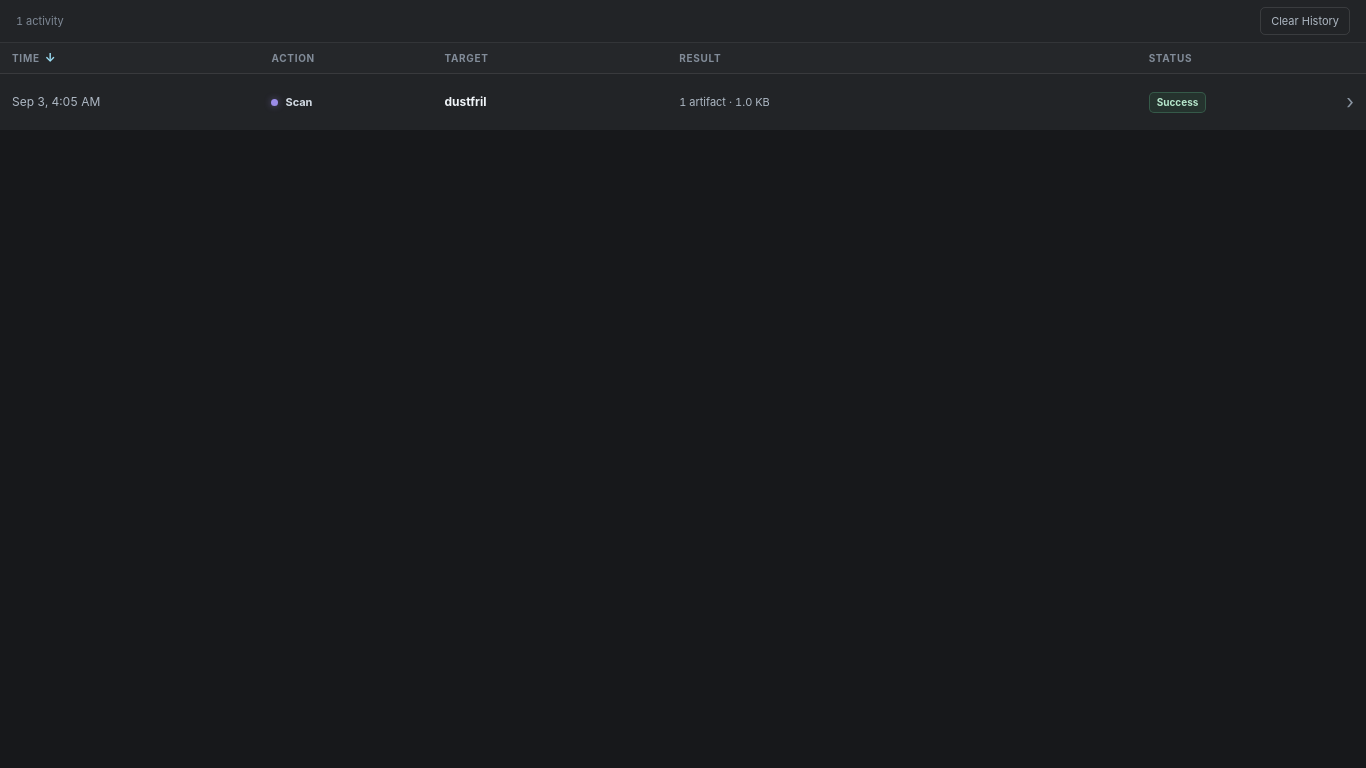
it: HistoryView › updates to the empty state immediately after a successful clear
Click the button "Clear History": [1305, 21] box [1260,7,1350,35]
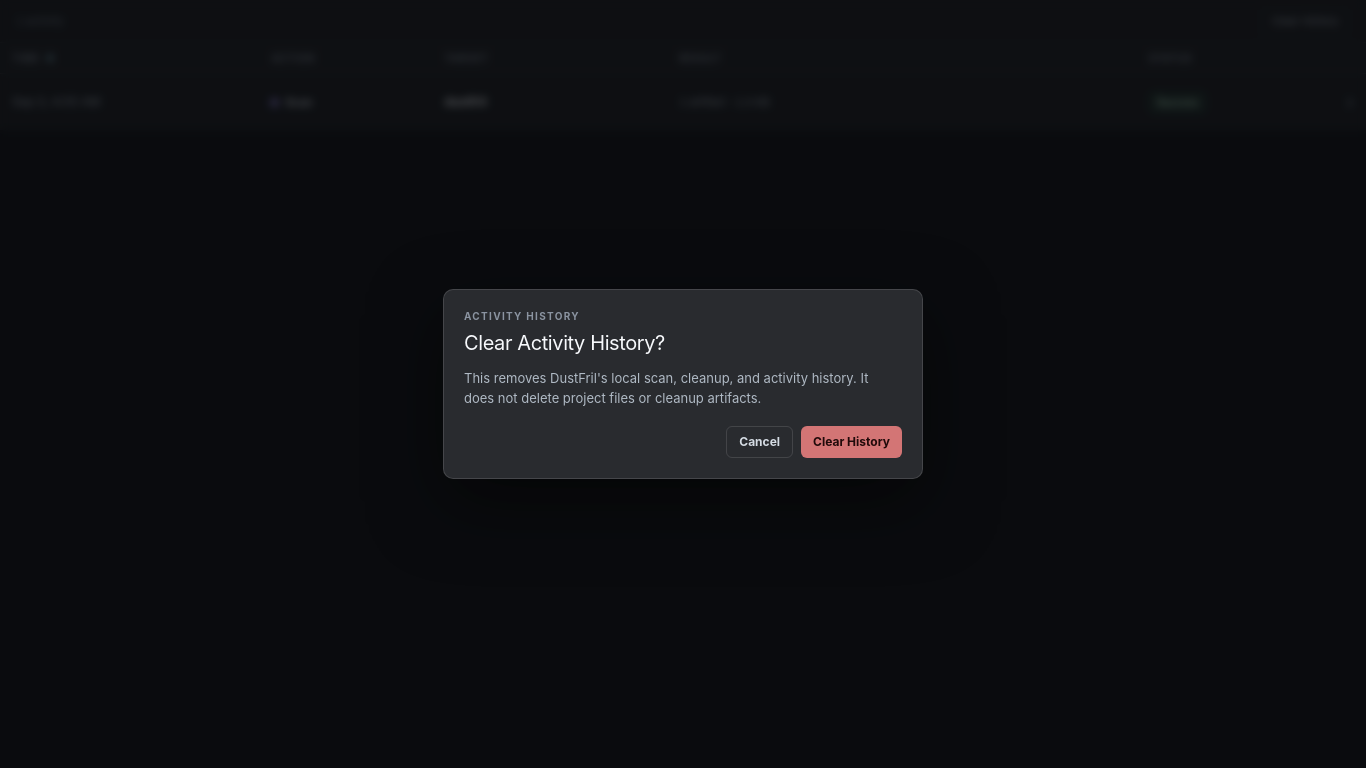
Click the button "Clear History": [852, 442] box [801,426,902,458]
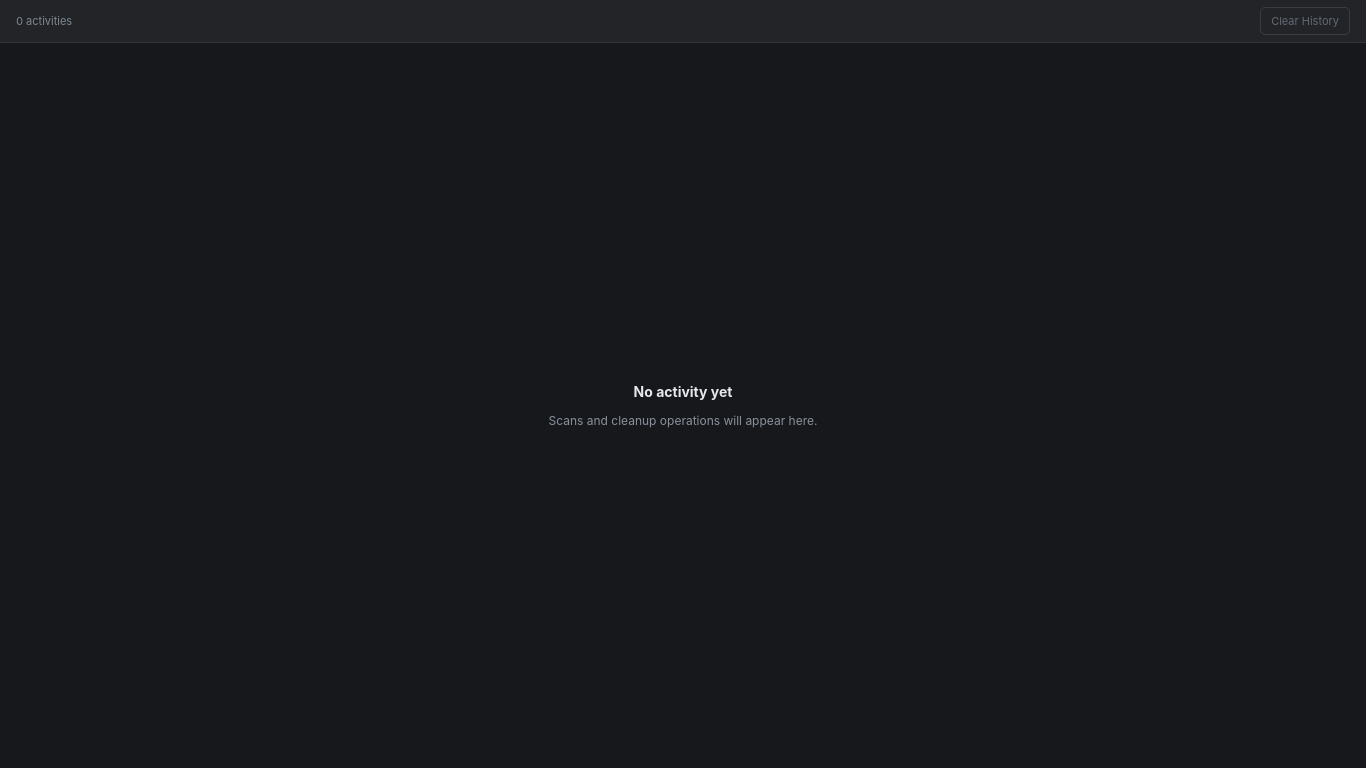
Expected: the text "dustfril" is not shown
Now the text "No activity yet" is shown, box [634,381,732,403]
Now the text "Scans and cleanup operations will appear here." is shown, box [549,412,818,430]
